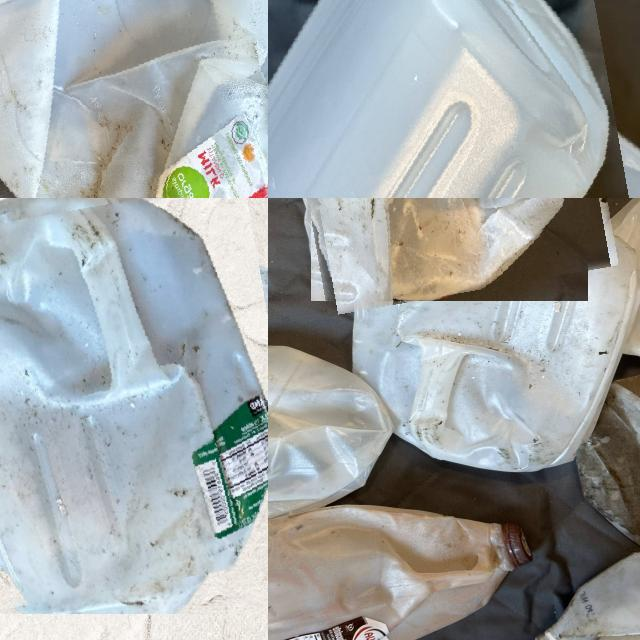milk-jug: (0, 198, 268, 600), (268, 0, 640, 198), (346, 215, 612, 475), (0, 0, 268, 198), (268, 501, 545, 640), (289, 198, 607, 303), (268, 348, 396, 546), (524, 542, 640, 640), (579, 370, 640, 554), (587, 198, 640, 367)
